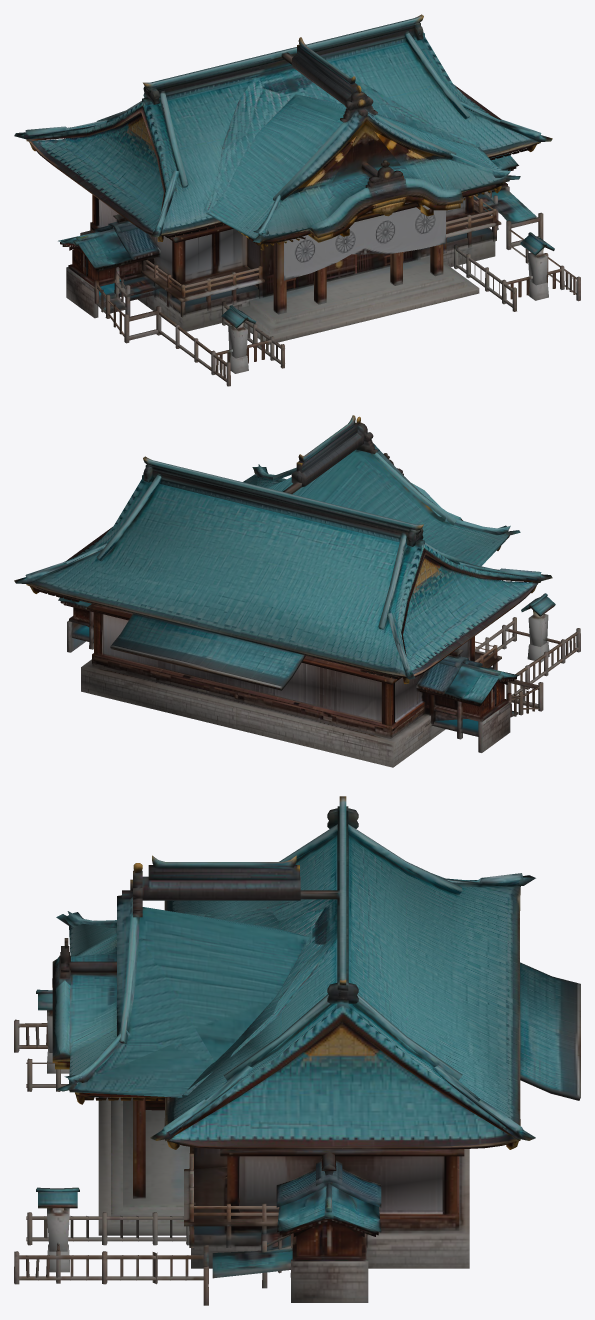
Rendered from japanese-house.glb.
The picture shows the model from 3 angles, top to bottom: view 1: azimuth 30°, elevation 25°; view 2: azimuth 150°, elevation 25°; view 3: azimuth 270°, elevation 25°; orthographic projection. The views are drawn at different scales.
Visible parts, largest first — view 1: tripo_node_89cd308e; view 2: tripo_node_89cd308e; view 3: tripo_node_89cd308e.
Part boxes in pixels (bbox=[...]): tripo_node_89cd308e: bbox=[14, 14, 580, 386]; tripo_node_89cd308e: bbox=[14, 415, 580, 767]; tripo_node_89cd308e: bbox=[14, 796, 580, 1305].
Size of the model in its own units: 0.9995 by 0.5181 by 0.8491.
Materials: 1 (1 with a texture image).
